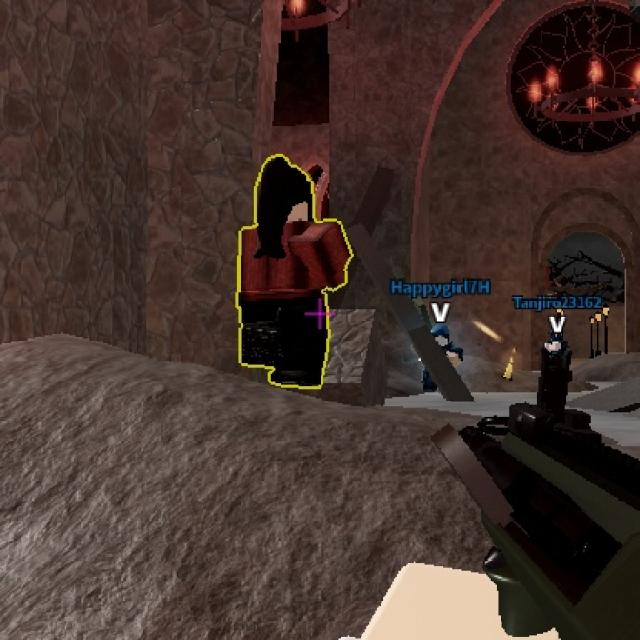player: (229, 154, 359, 402)
